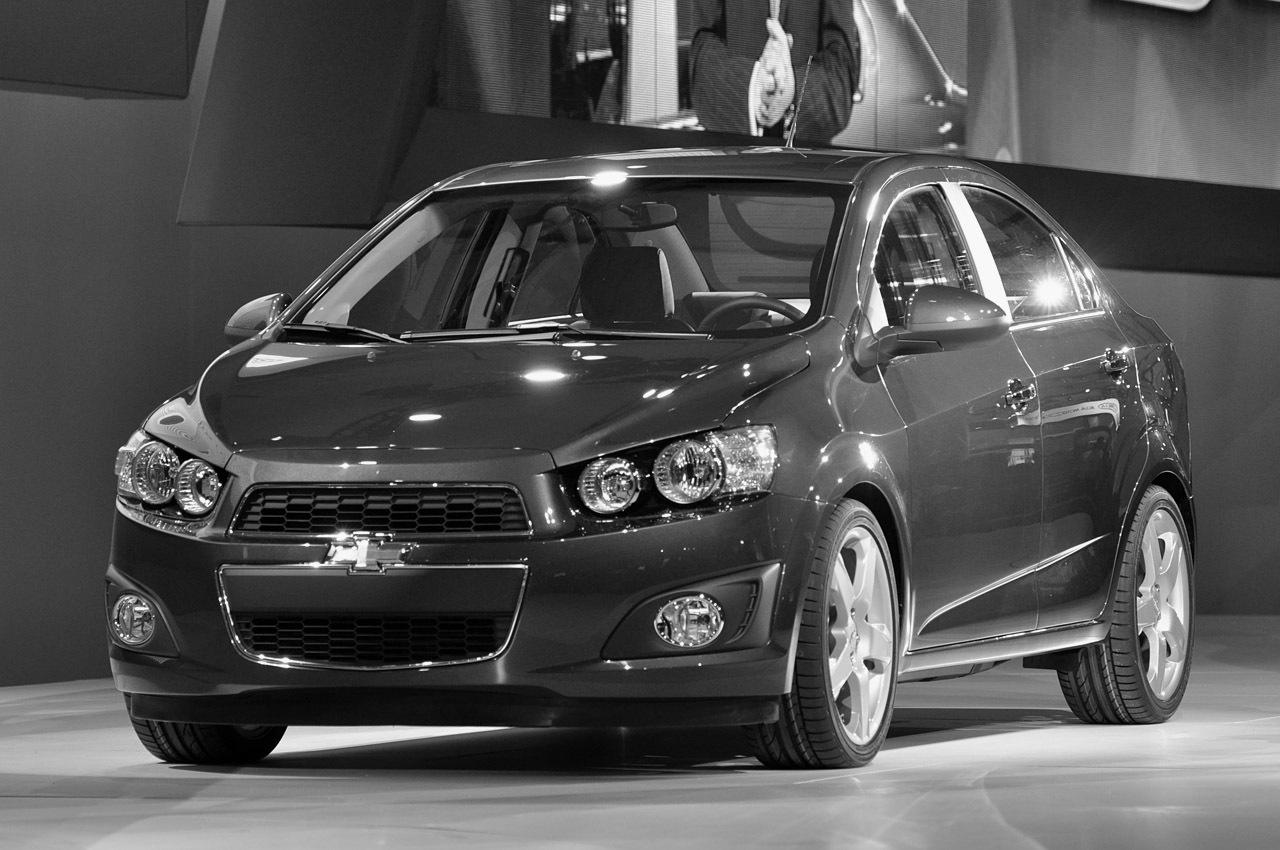car: (104, 145, 1203, 765)
